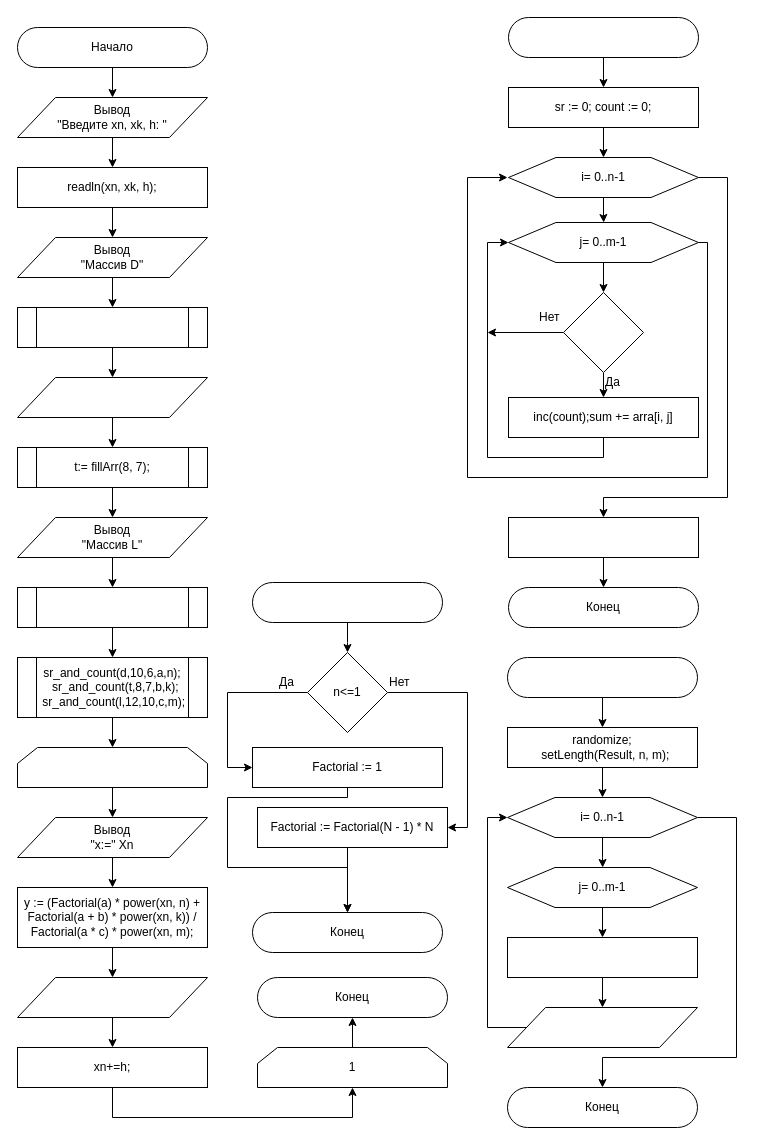
The diagram is 762 pixels wide and 1145 high, and some of its shapes have lost their labels. The shapes that lost their labels are listed below. From the top down, each one's box as (x1, y1, x2, y2) in pixels, then its label:
(508, 16, 698, 58): sr_and_count
(16, 306, 208, 348): d:= fillArr(10,6);
(562, 292, 644, 372): arra[j, i] > 0
(16, 376, 208, 418): Вывод " Массив T "
(508, 516, 698, 558): sr := sum / count;
(16, 586, 208, 628): l:= fillArr(12, 10);
(252, 582, 442, 622): Factorial
(506, 656, 698, 698): fillArr
(16, 746, 208, 788): 1 xn <= xk
(506, 936, 698, 978): Result[i, j] := random(-50, 50);
(16, 976, 208, 1018): Вывод Y
(506, 1006, 698, 1048): Вывод элемента массива
